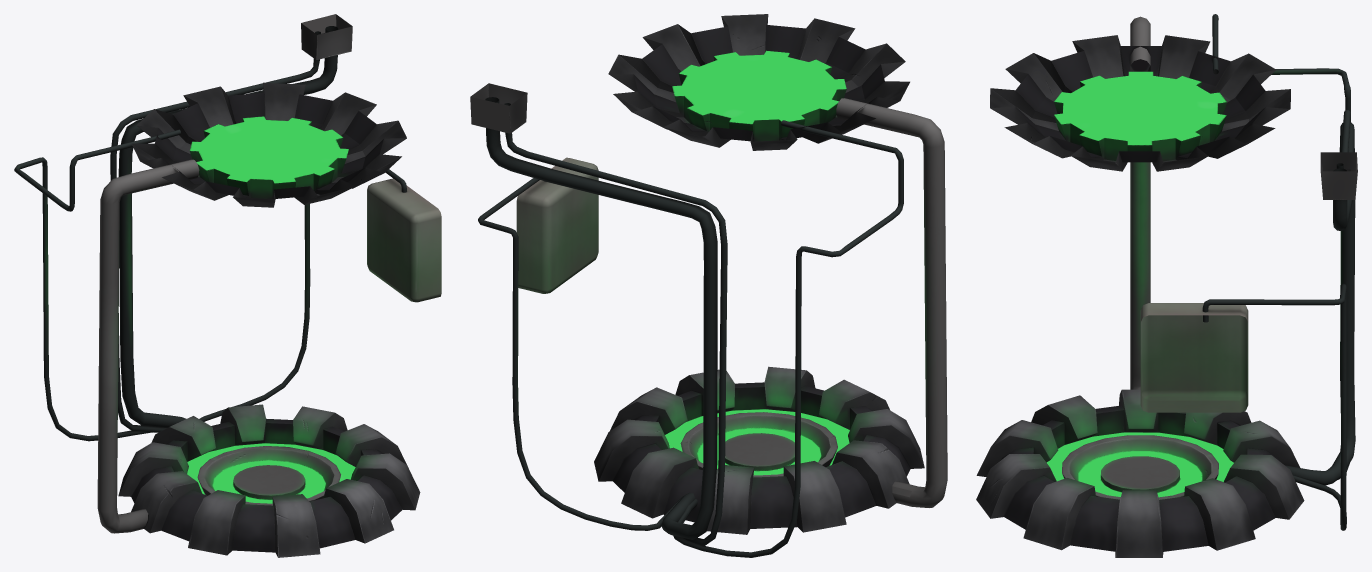
File: PortalBase.fbx
3 views of the same model, side by side, from view 1: azimuth 30°, elevation 25°; view 2: azimuth 150°, elevation 25°; view 3: azimuth 270°, elevation 25° (orthographic). The views are drawn at different scales.
Parts seen in each view (by area): view 1: PortalBase_Whole, PortalBase_GlowingAreas; view 2: PortalBase_Whole, PortalBase_GlowingAreas; view 3: PortalBase_Whole, PortalBase_GlowingAreas.
Boxes of the visible parts, x1,y1,x2,y2 form: PortalBase_Whole: (14, 14, 441, 557); PortalBase_GlowingAreas: (187, 116, 355, 503); PortalBase_Whole: (470, 14, 947, 557); PortalBase_GlowingAreas: (665, 50, 849, 475); PortalBase_Whole: (976, 14, 1357, 557); PortalBase_GlowingAreas: (1046, 71, 1233, 497).
Bounding box in the file's own units: 4.07 × 4.2 × 3.55.
